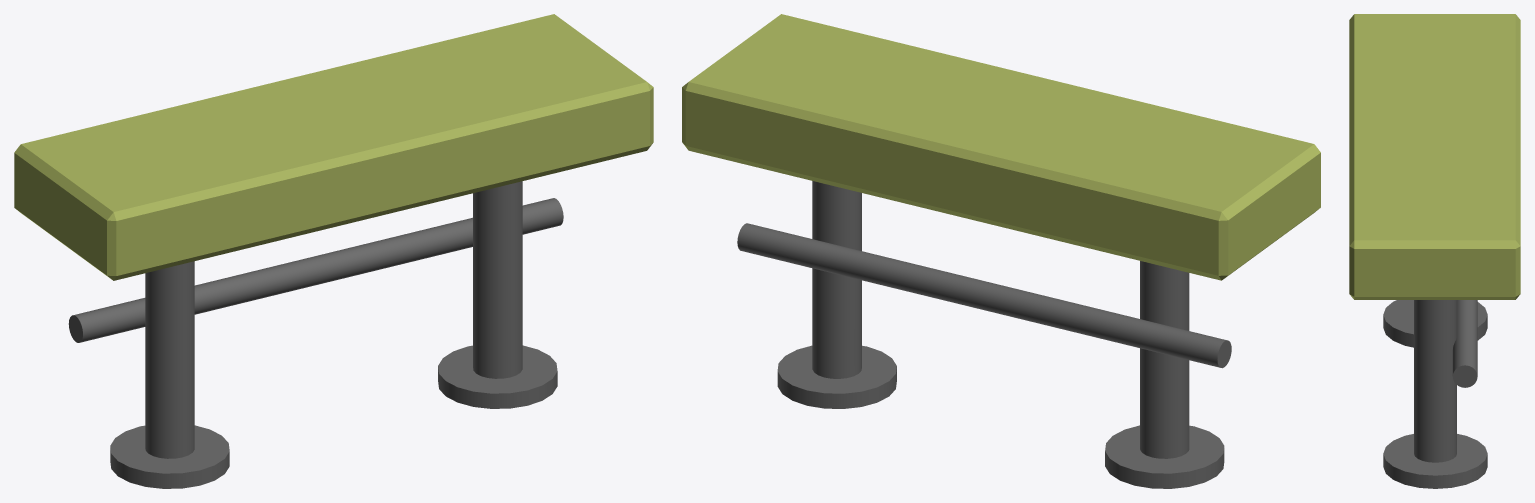
The model's file is novakfi19_BarovejStolek.fbx.
3 renders of one model, left to right at view 1: azimuth 30°, elevation 25°; view 2: azimuth 150°, elevation 25°; view 3: azimuth 270°, elevation 25°, orthographic. The views are drawn at different scales.
Visible parts, largest first — view 1: pCube13, pCylinder5, pCylinder4, pCylinder2, pCylinder1, pCylinder3; view 2: pCube13, pCylinder5, pCylinder4, pCylinder2, pCylinder1, pCylinder3; view 3: pCube13, pCylinder4, pCylinder3, pCylinder5, pCylinder1.
Part boxes in pixels (left/top/right/bottom): pCube13: left=14, top=14, right=653, bottom=280; pCylinder5: left=68, top=198, right=563, bottom=342; pCylinder4: left=473, top=181, right=522, bottom=378; pCylinder2: left=145, top=261, right=194, bottom=458; pCylinder1: left=110, top=425, right=229, bottom=488; pCylinder3: left=438, top=345, right=557, bottom=408; pCube13: left=682, top=14, right=1320, bottom=280; pCylinder5: left=737, top=223, right=1231, bottom=368; pCylinder4: left=812, top=181, right=861, bottom=378; pCylinder2: left=1140, top=261, right=1189, bottom=458; pCylinder1: left=1105, top=425, right=1224, bottom=488; pCylinder3: left=777, top=345, right=896, bottom=408; pCube13: left=1349, top=14, right=1520, bottom=299; pCylinder4: left=1414, top=300, right=1456, bottom=462; pCylinder3: left=1383, top=434, right=1487, bottom=488; pCylinder5: left=1452, top=300, right=1477, bottom=387; pCylinder1: left=1383, top=300, right=1487, bottom=347.
Bounding box in the file's own units: 1.68 × 0.9119 × 0.5235.
